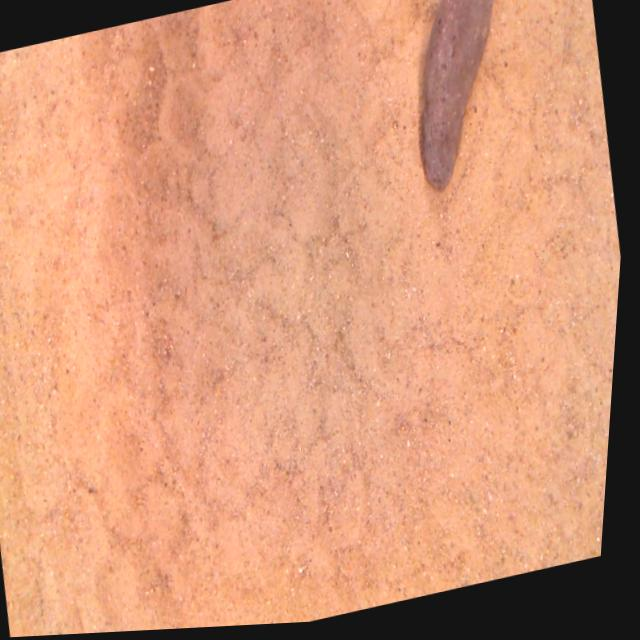rock: (422, 0, 492, 194)
